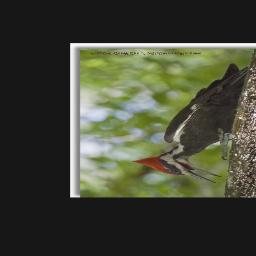Woodpecker: (131, 63, 249, 184)
